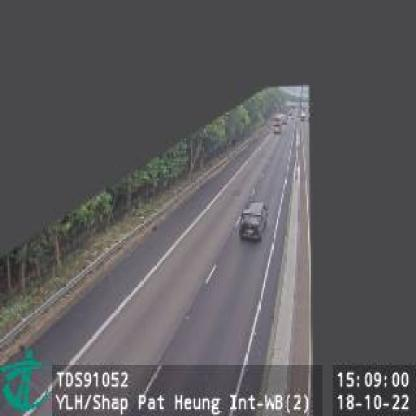Car: (240, 198, 268, 244)
Truck: (270, 112, 284, 134)
